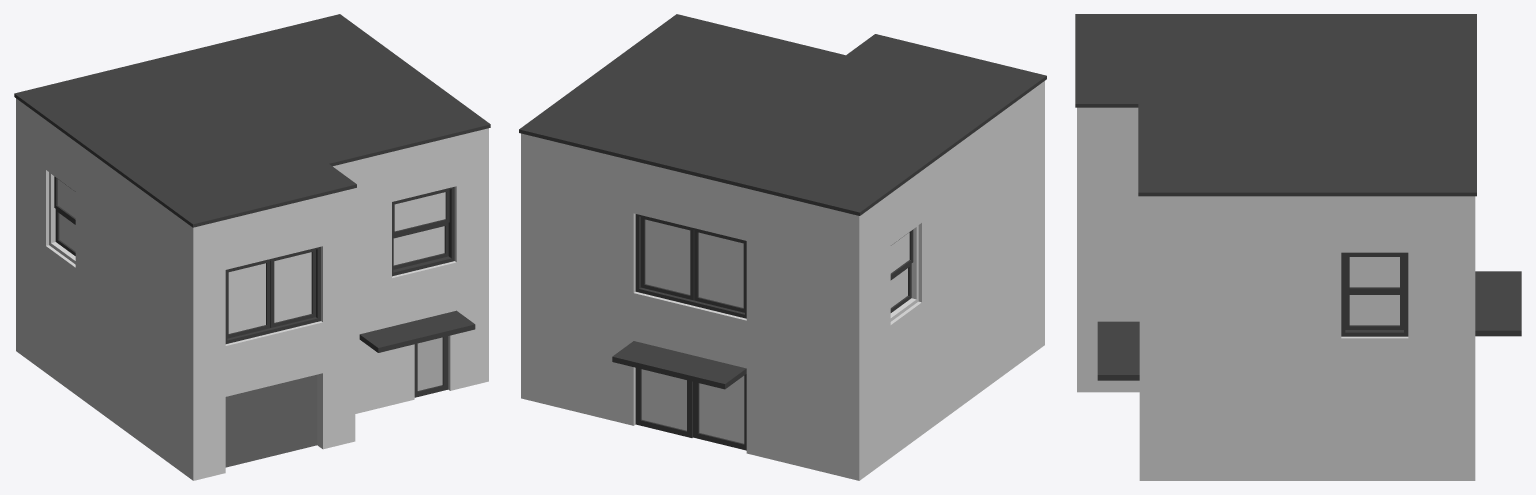
File: BUILDING 9.fbx
The picture shows the model from 3 angles, left to right: view 1: azimuth 30°, elevation 25°; view 2: azimuth 150°, elevation 25°; view 3: azimuth 270°, elevation 25°; orthographic projection. The views are drawn at different scales.
Visible parts, largest first — view 1: building 9; view 2: building 9; view 3: building 9.
Boxes of the visible parts, x1,y1,x2,y2 form: building 9: (14, 14, 490, 480); building 9: (519, 14, 1046, 480); building 9: (1075, 14, 1521, 480).
Size of the model in its own units: 1007 by 760 by 1064.
